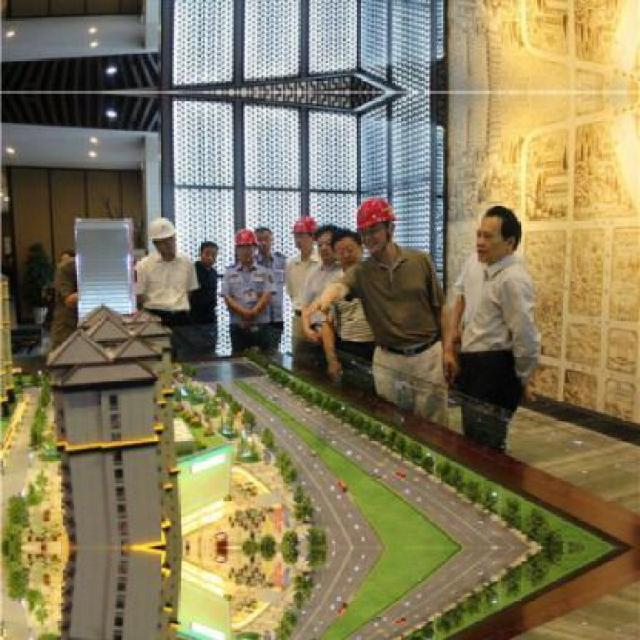helmet: (349, 196, 402, 236), (286, 214, 319, 238), (226, 226, 259, 249)
